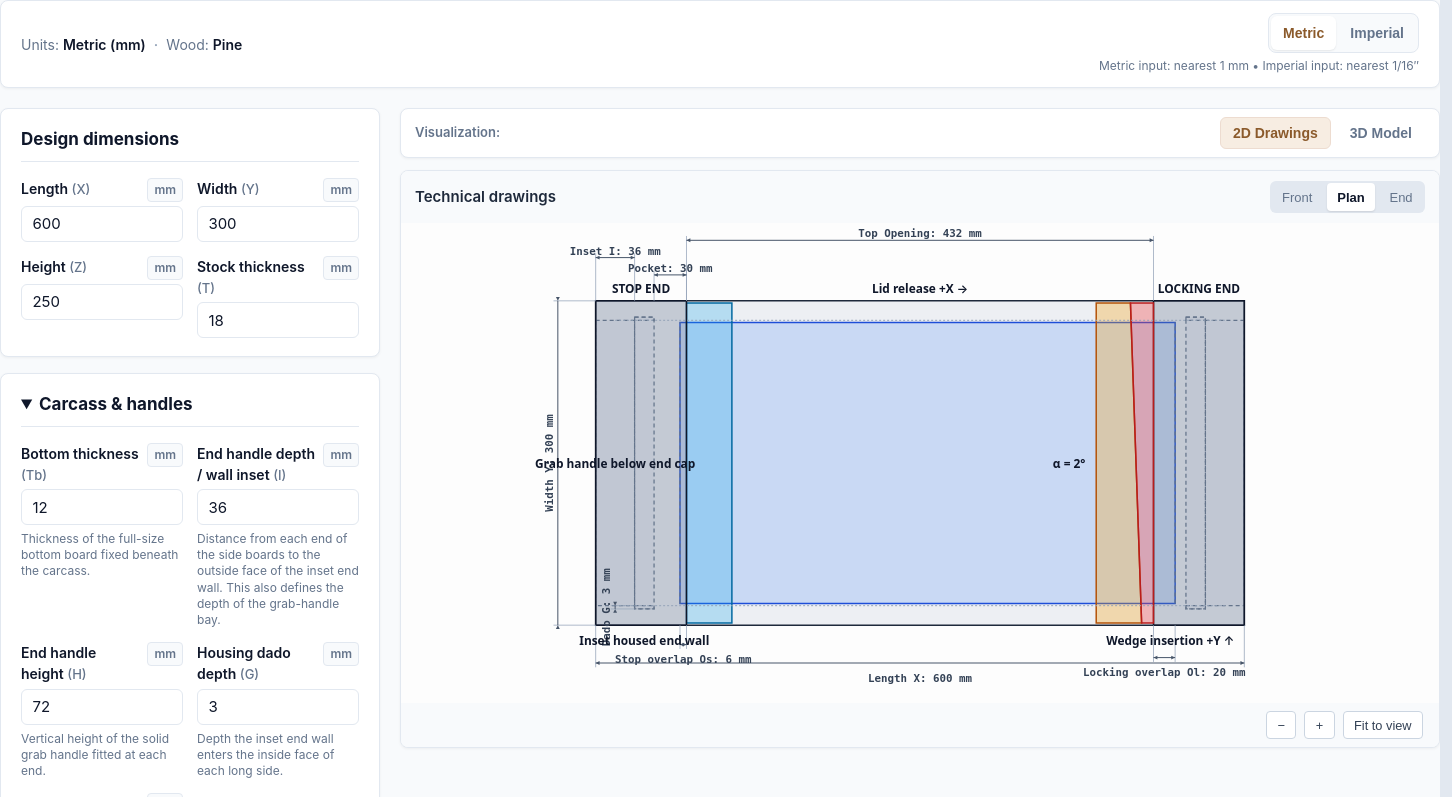
Scenario: DesignEditor Component › accepts valid imperial fractions and rejects invalid fractions
Note: Switch to imperial
Click the radio button labelled "Imperial". click: (1377, 33)
box: [1338,16,1416,50]
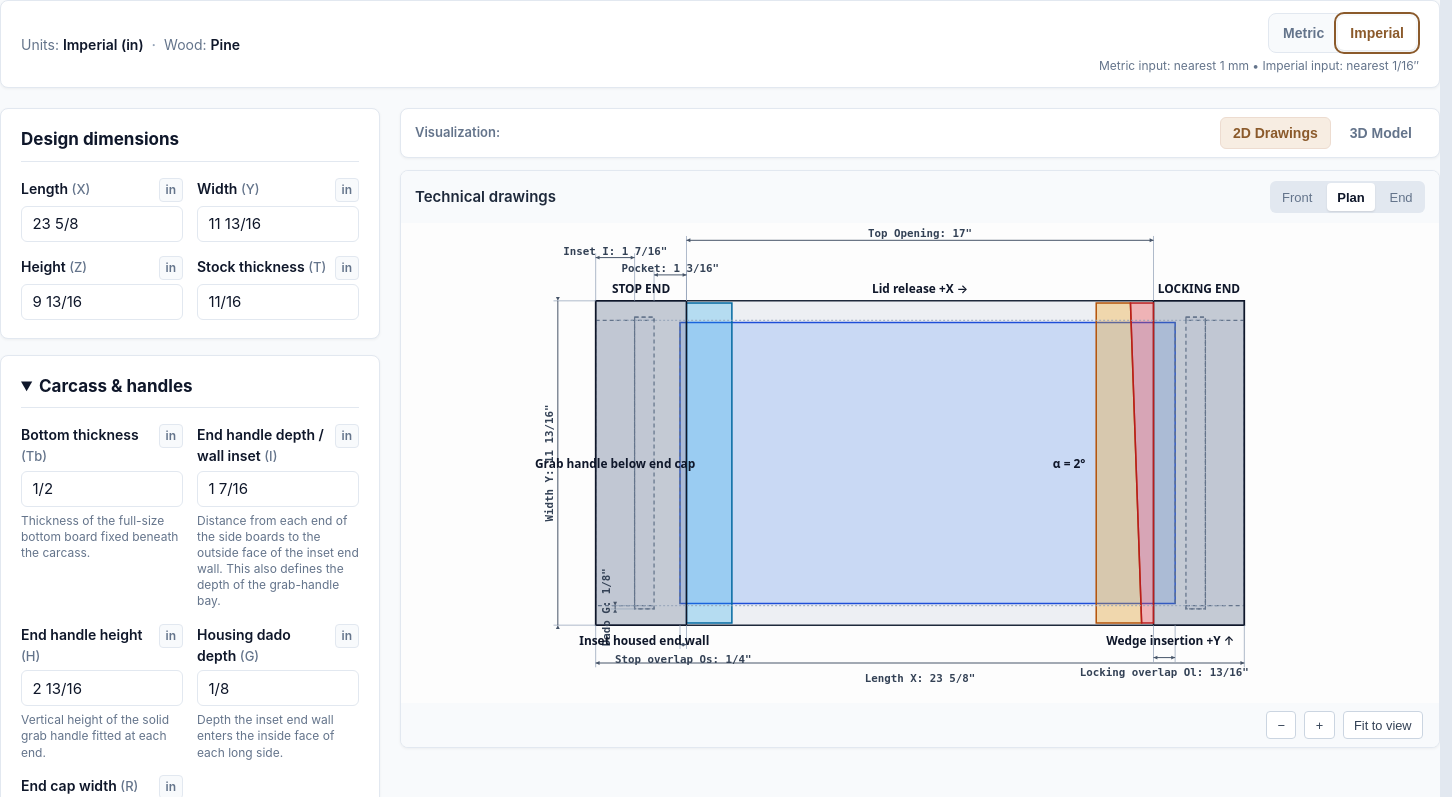
Clear the field labelled "Length (X)". click: (102, 224)
box: [21,206,183,242]
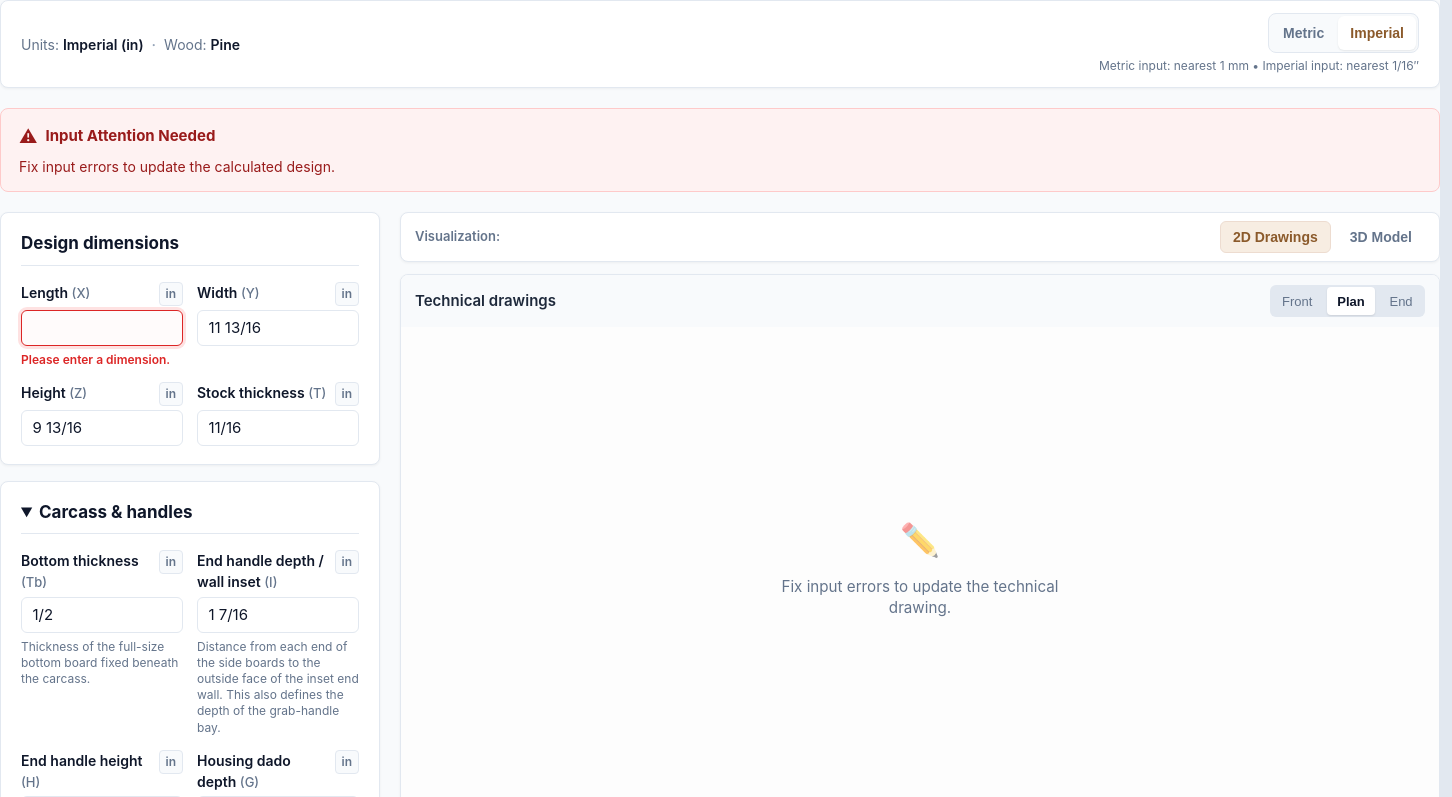
Type "24 1/2" into the field labelled "Length (X)". click: (102, 328)
box: [21,310,183,346]
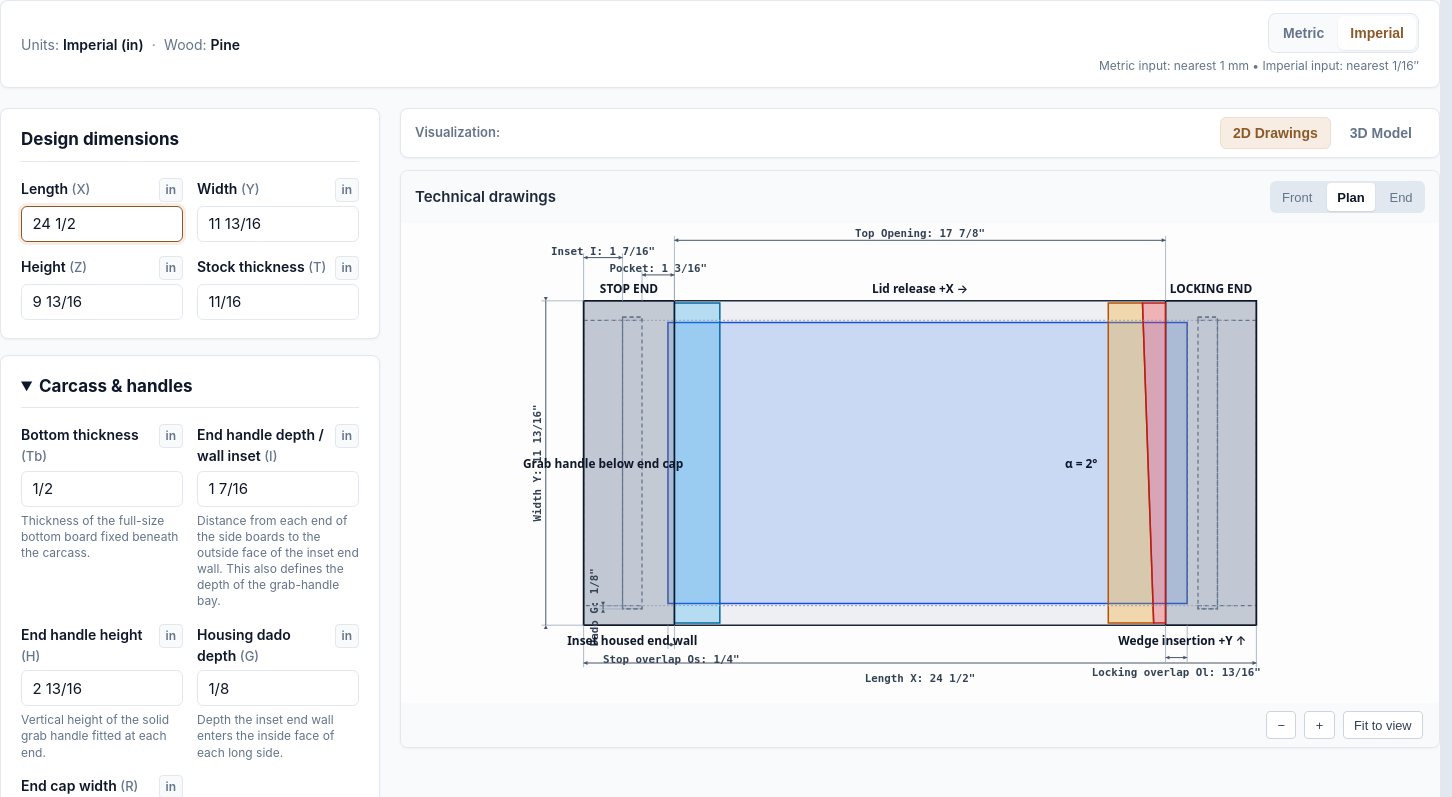
Expected: the field labelled "Length (X)" is not marked as invalid
Note: Reject 24 1/32
Clear the field labelled "Length (X)". click: (102, 224)
box: [21,206,183,242]
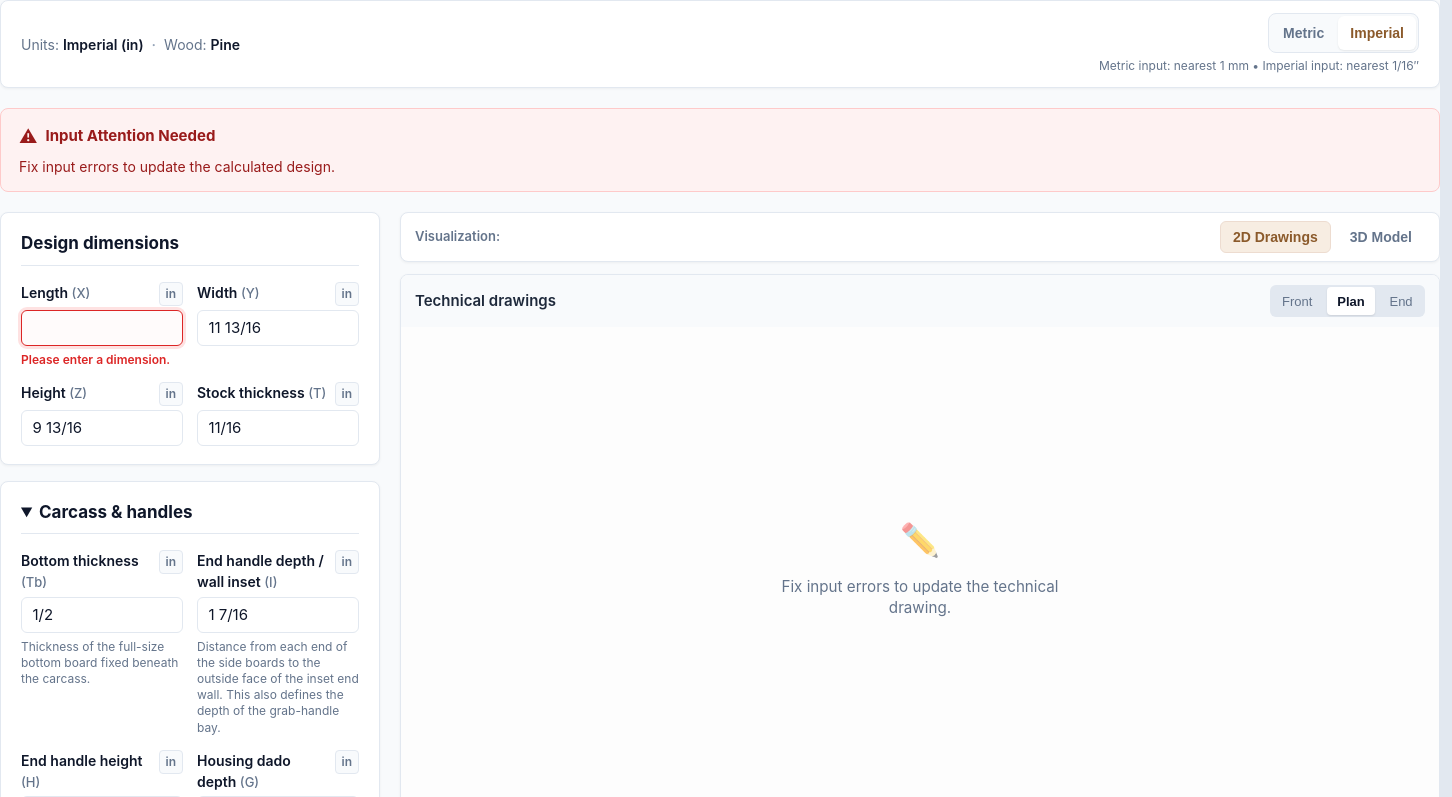
Type "24 1/32" into the field labelled "Length (X)". click: (102, 328)
box: [21,310,183,346]
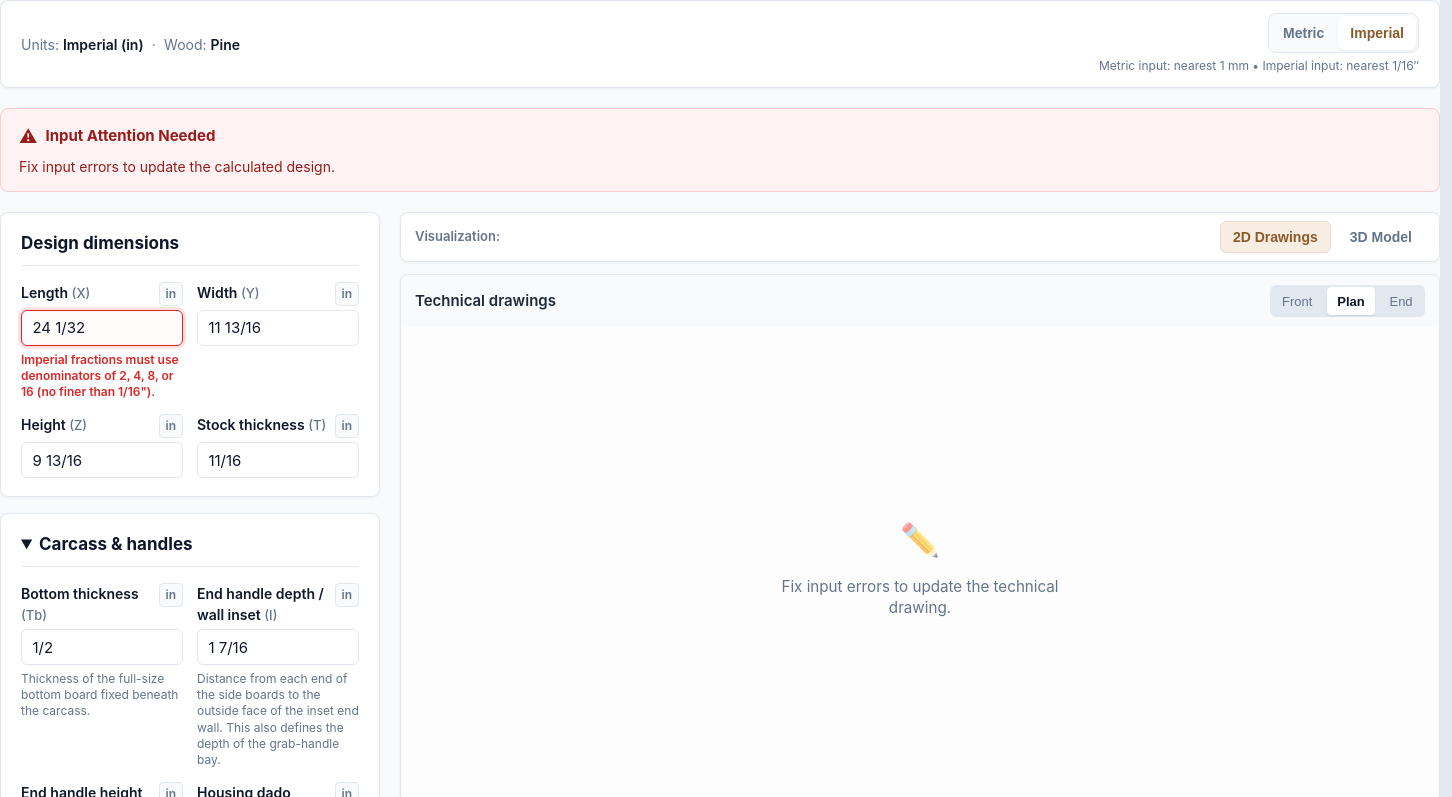
Expected: the text "Imperial fractions must use denominators of 2, 4, 8, or 16" is shown, [21,352,179,399]
